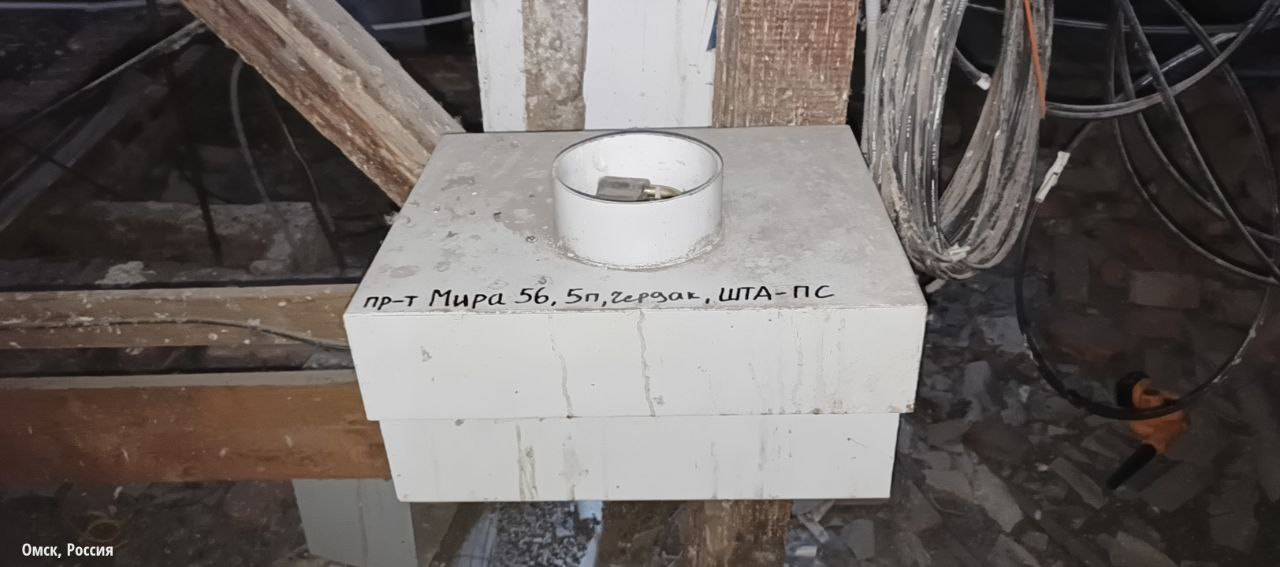shta-ps: (334, 122, 935, 506)
